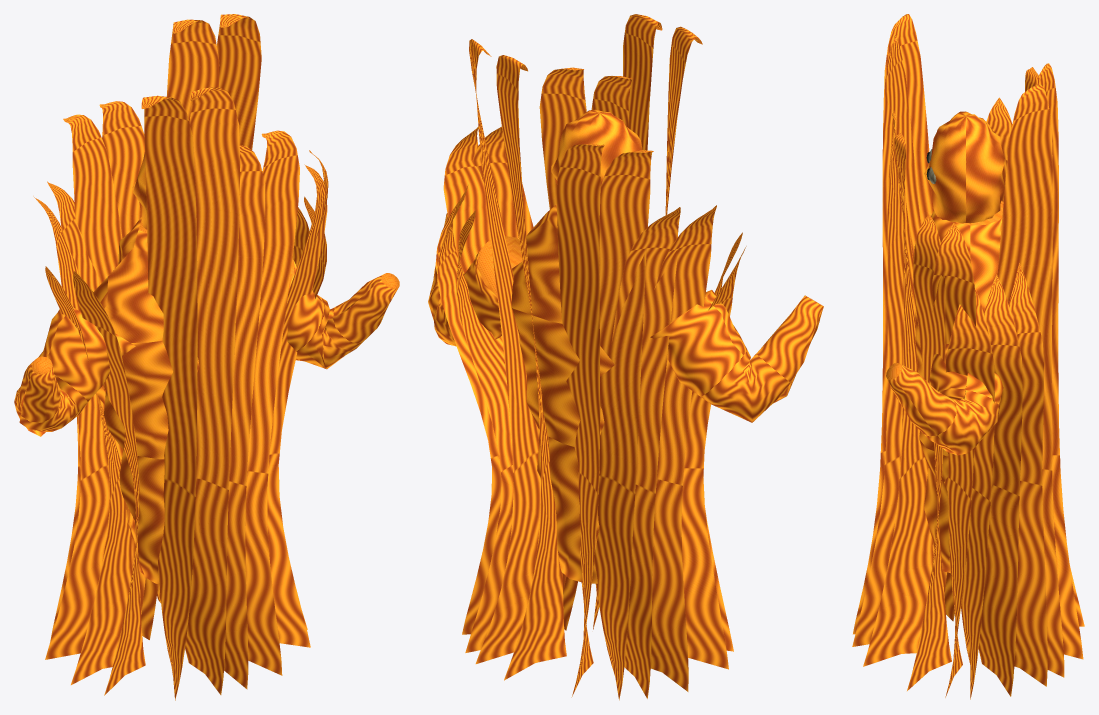
File: special-fire-elemental.glb
3 views of the same model, side by side, from view 1: azimuth 30°, elevation 25°; view 2: azimuth 150°, elevation 25°; view 3: azimuth 270°, elevation 25° (orthographic). The views are drawn at different scales.
Visible parts, largest first — view 1: fire; view 2: fire; view 3: fire.
Boxes of the visible parts, <box> form: fire: <box>14,14,399,700</box>; fire: <box>428,14,823,700</box>; fire: <box>852,14,1084,699</box>.
Bounding box in the file's own units: 1.01 × 1.56 × 0.5493.
Materials: 3 (3 with a texture image).
